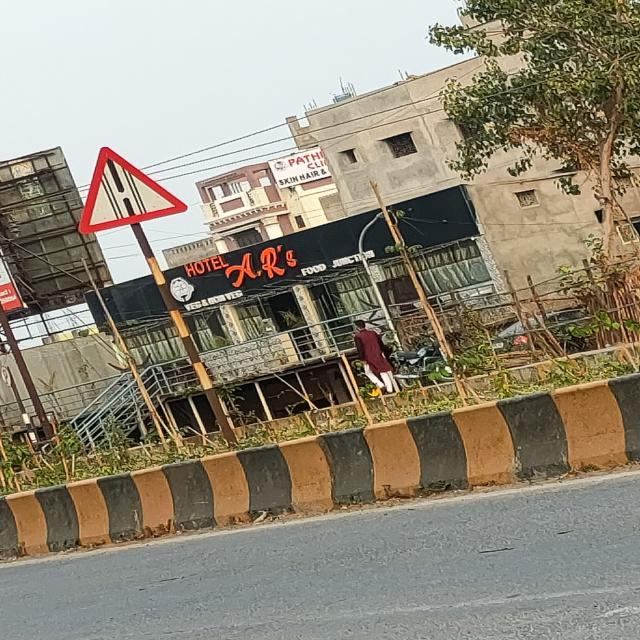gap in median: (74, 140, 197, 236)
